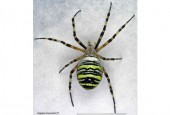spider: (33, 1, 136, 115)
